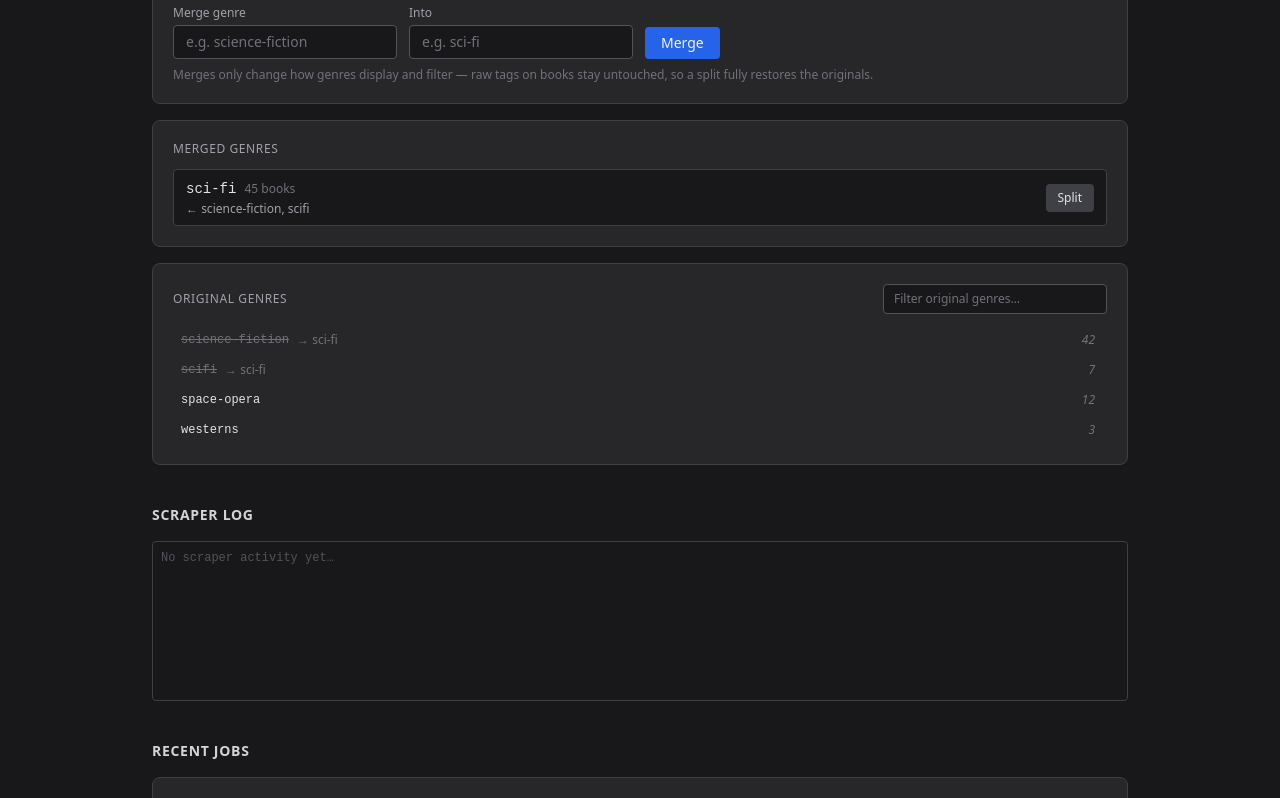
Test: Genre Merges — merge action › prefills the merge source when an original genre row is clicked
The image size is (1280, 798).
(page scrolled)
Click the button "space-opera 12": {"x": 221, "y": 400} [173, 386, 1103, 414]
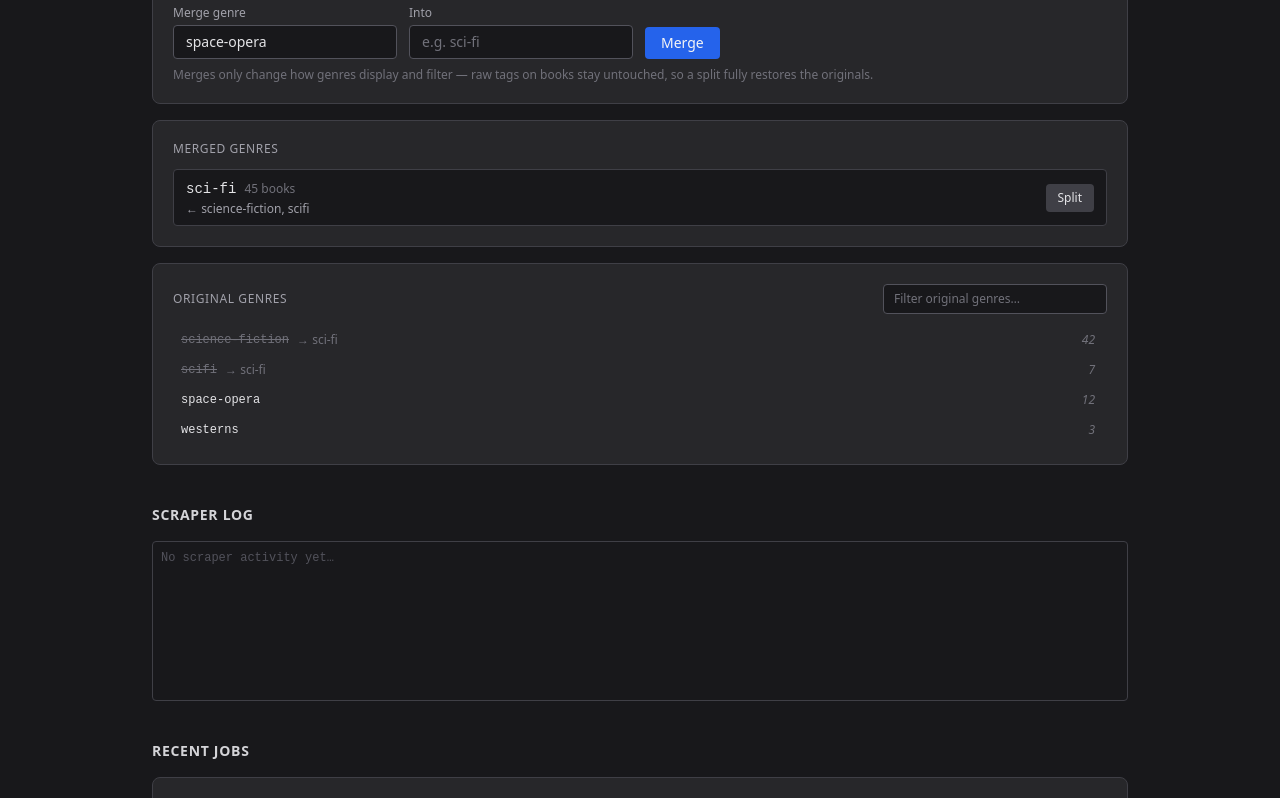
Check: the field with placeholder "e.g. science-fiction" holds "space-opera", box [173, 25, 397, 59]
